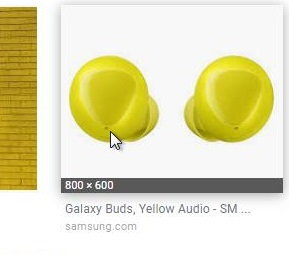cursor: (109, 129, 123, 150)
